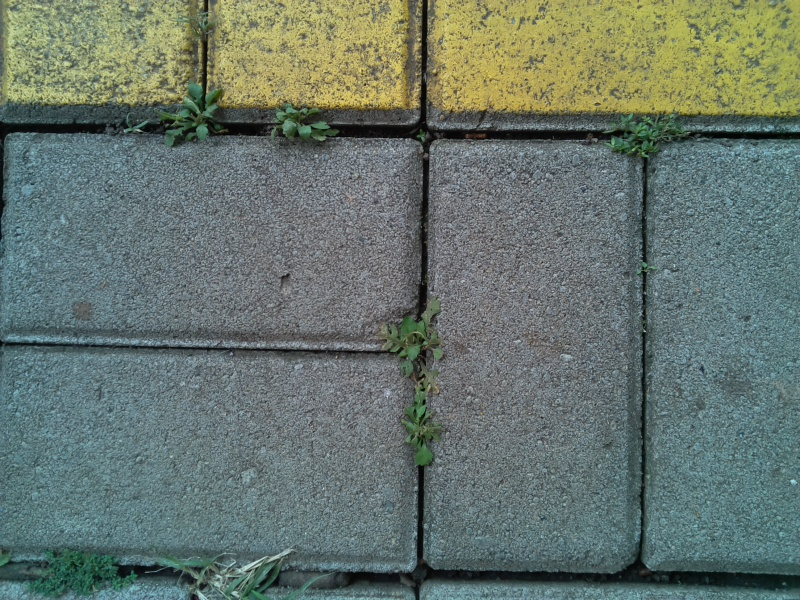Weed: (373, 295, 451, 392), (159, 545, 285, 600), (29, 543, 138, 600), (156, 77, 224, 149), (396, 388, 449, 472), (605, 109, 680, 161), (267, 102, 341, 151), (182, 9, 222, 45), (114, 109, 150, 141), (412, 122, 438, 153), (634, 257, 658, 281)
